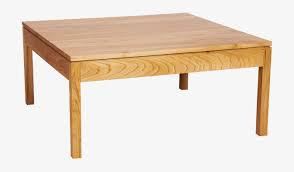desk: (14, 6, 280, 165)
